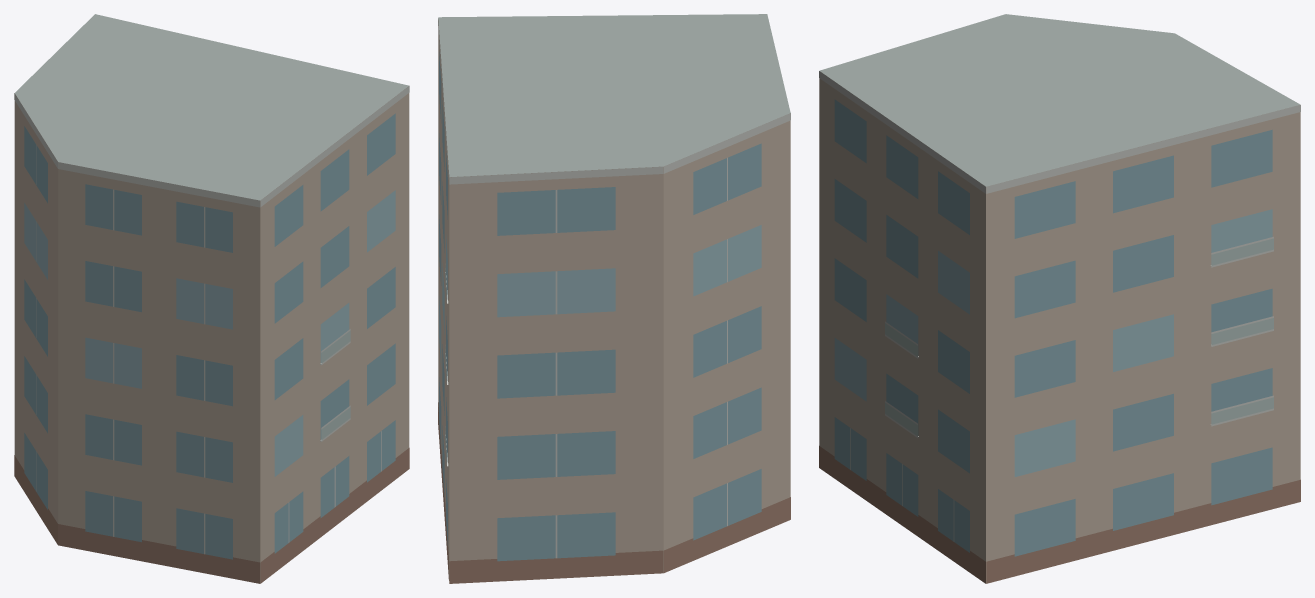
File: survey-upis-32594592.glb
3 views of the same model, side by side, from view 1: azimuth 30°, elevation 25°; view 2: azimuth 150°, elevation 25°; view 3: azimuth 270°, elevation 25° (orthographic). The views are drawn at different scales.
Parts seen in each view (by area): view 1: survey-upis-32594592.tmp; view 2: survey-upis-32594592.tmp; view 3: survey-upis-32594592.tmp.
Part boxes in pixels (box(x1,y1,x2,y2)): survey-upis-32594592.tmp: box(14, 14, 409, 583); survey-upis-32594592.tmp: box(438, 14, 790, 583); survey-upis-32594592.tmp: box(819, 14, 1300, 583).
Size of the model in its own units: 12.51 by 13.4 by 14.74.
